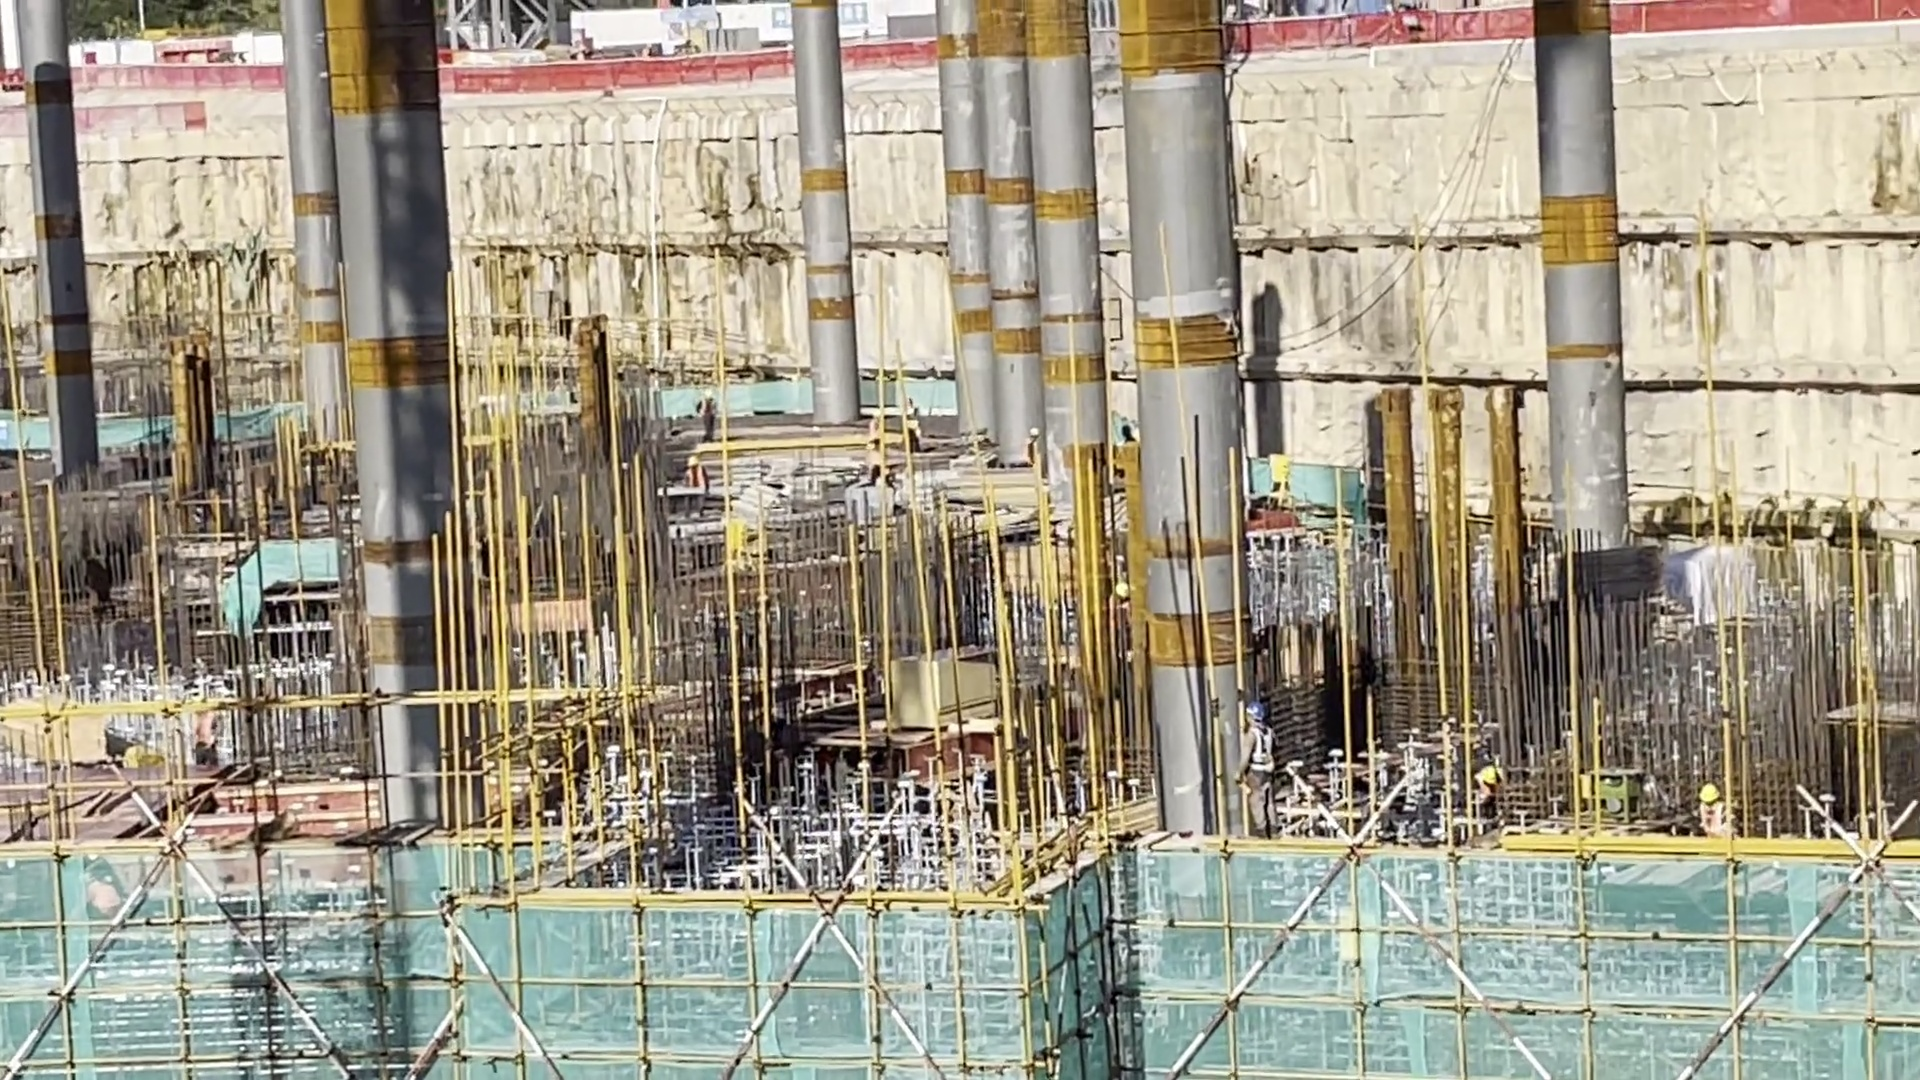helmet: (1700, 784, 1720, 802), (1479, 766, 1497, 784), (1247, 701, 1263, 721)
person: (1235, 700, 1275, 843), (1690, 787, 1728, 843)
vest: (1254, 734, 1277, 784)
